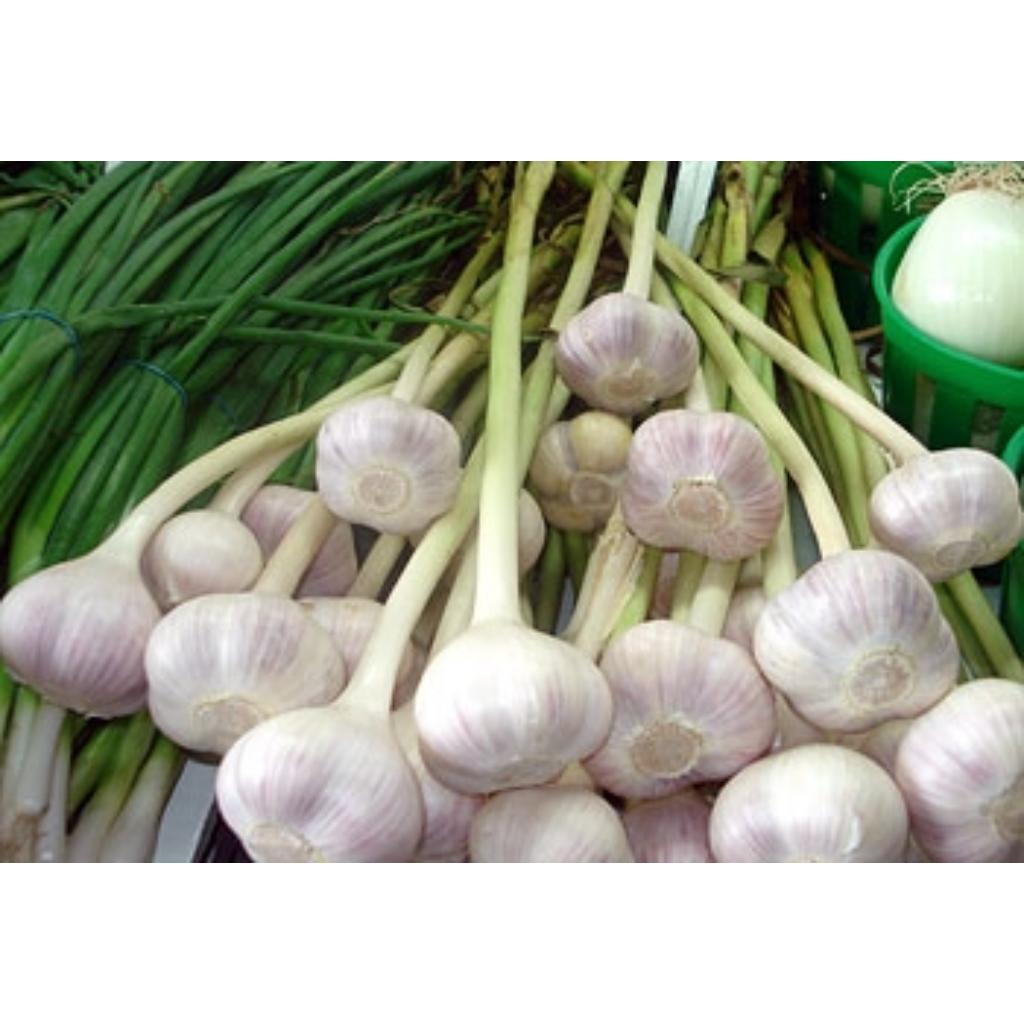garlic: (0, 347, 405, 716), (414, 161, 612, 792), (216, 441, 483, 861), (146, 495, 344, 754), (754, 551, 958, 732), (588, 621, 774, 799), (710, 745, 908, 861), (316, 395, 460, 534)
